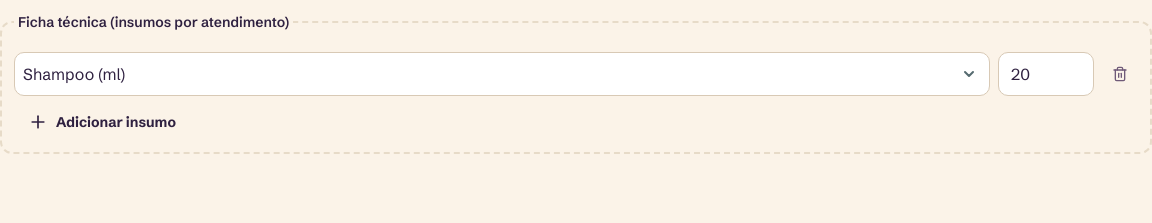
Test: SuppliesEditor › salva a ficha com quantidades inteiras e ignora linha sem insumo
This screenshot has width=1152, height=223.
Replace the text in the number field named "Quantidade" with "25.7". click: (1046, 74)
box: [1011,53,1081,95]
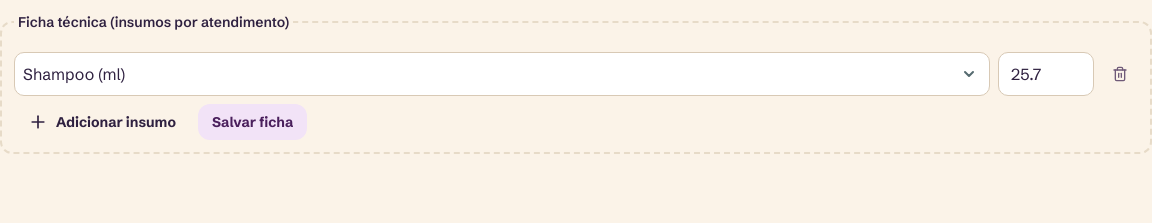
Click the button "Adicionar insumo". click: click(102, 122)
box: [14,104,190,140]
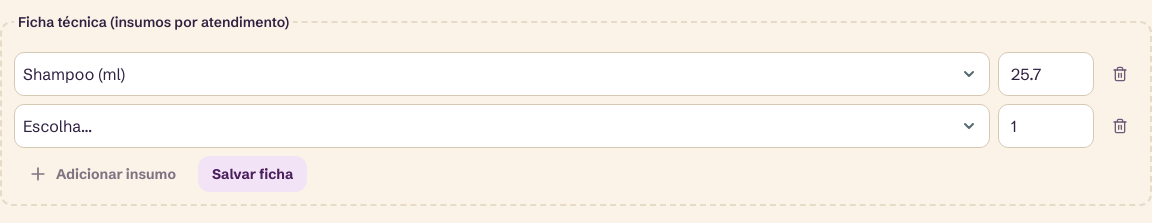
Click the button "Salvar ficha". click: click(253, 174)
box: [198,156,307,192]
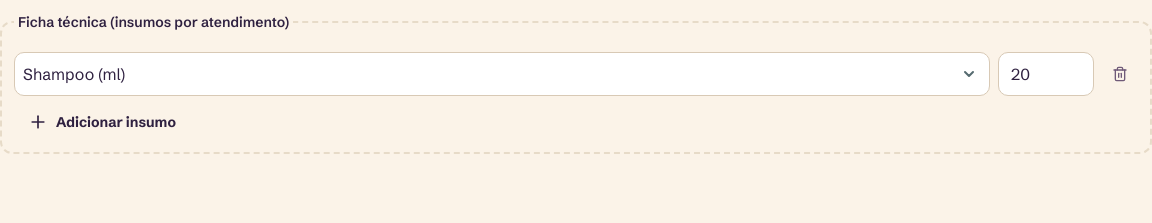
Check: the button "Salvar ficha" is gone
